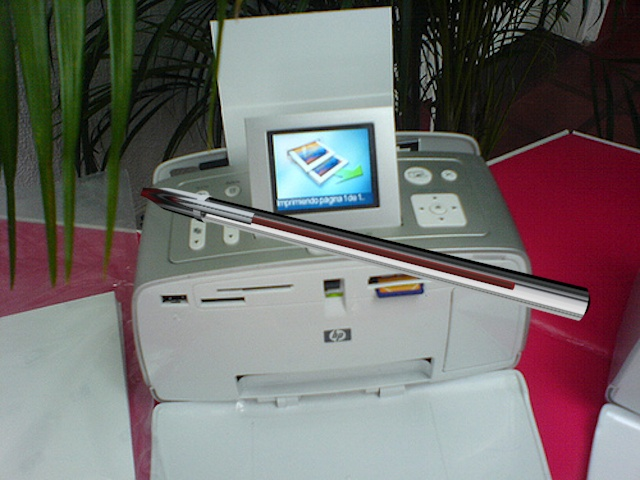pen: (128, 177, 592, 328)
